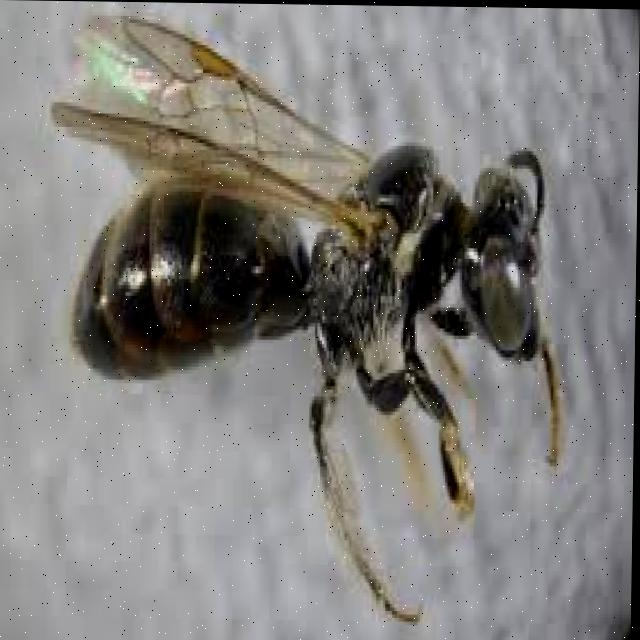Braunsapis: (16, 1, 618, 614)
